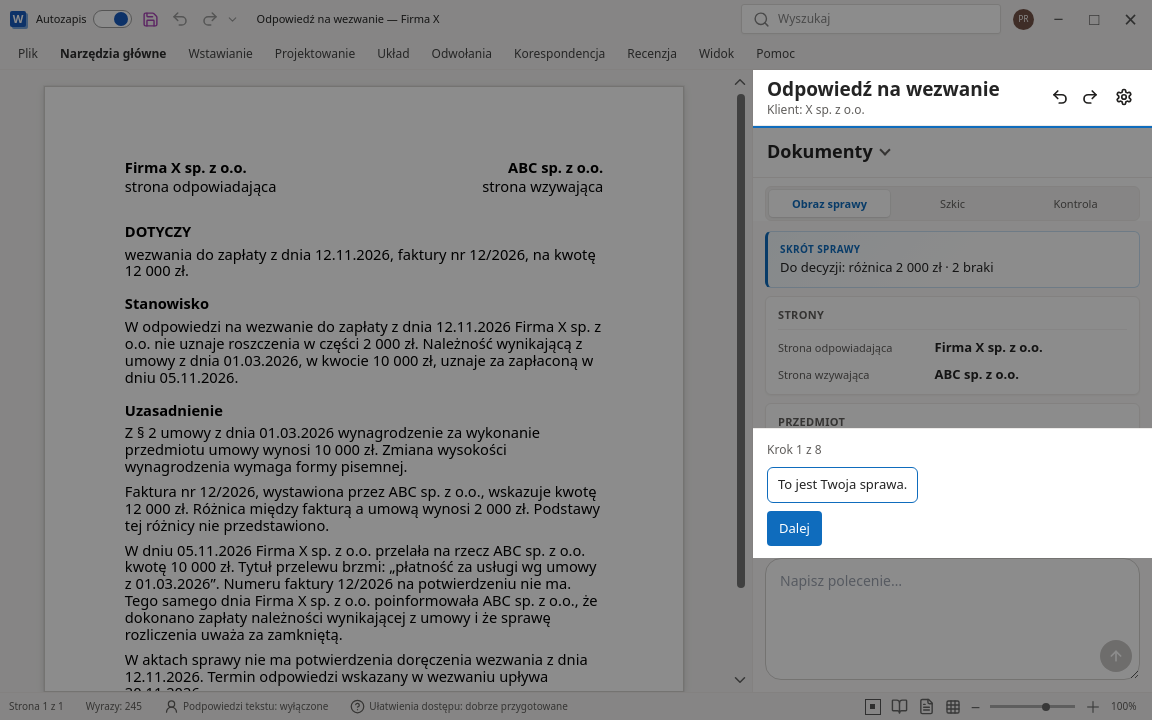
prezentacja › krok 4 podświetla brak potwierdzenia doręczenia
What coordinates should you click on to do the following:
click the button "Dalej"
I would click on:
 (794, 529)
Its box is [767, 511, 822, 546].
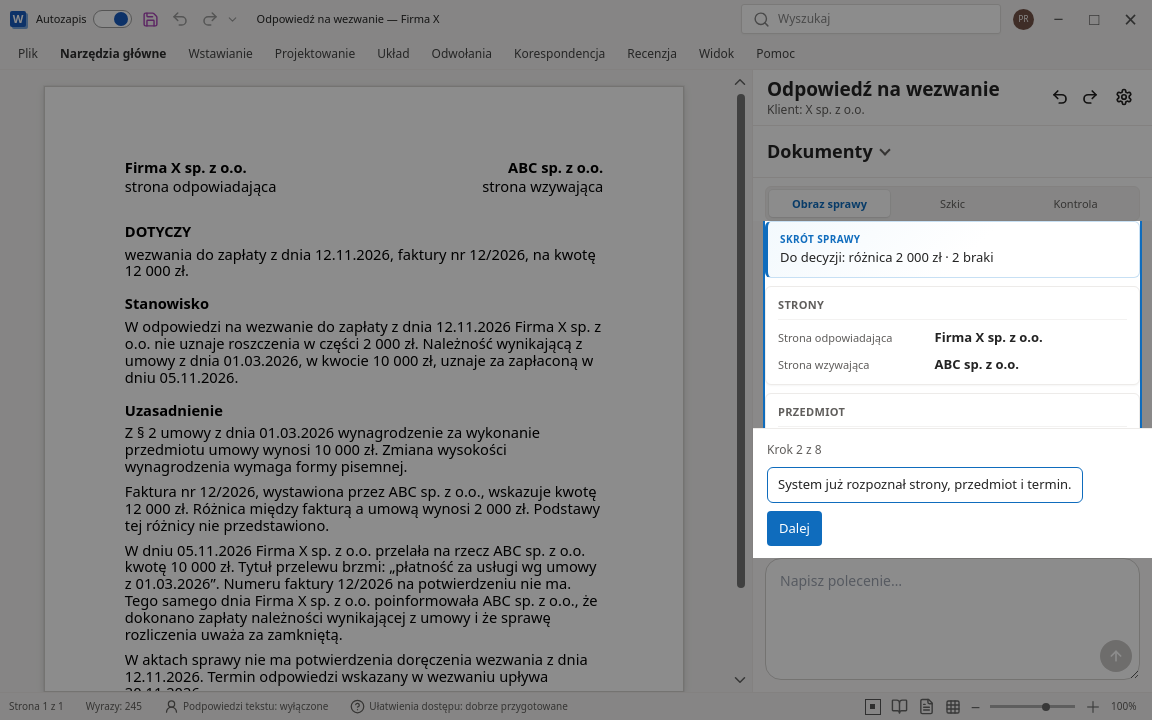
What coordinates should you click on to do the following:
click the button "Dalej"
I would click on:
 (794, 529)
Its box is [767, 511, 822, 546].
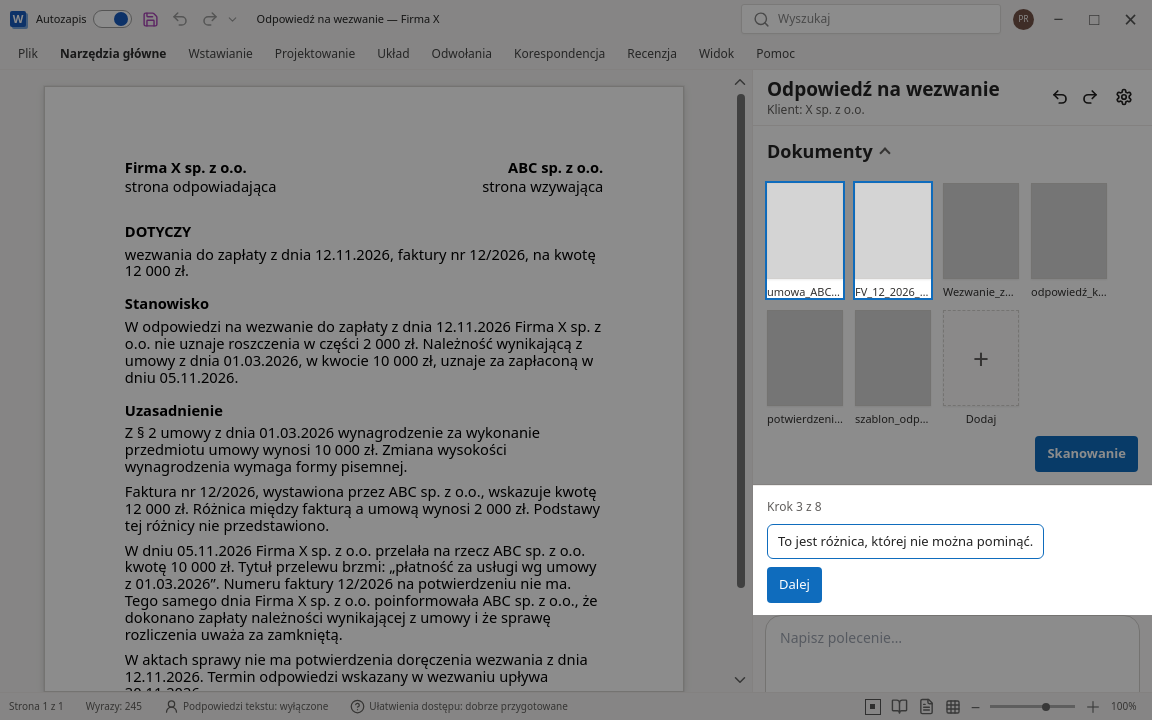
What coordinates should you click on to do the following:
click the button "Dalej"
I would click on:
 (794, 585)
Its box is [767, 567, 822, 603].
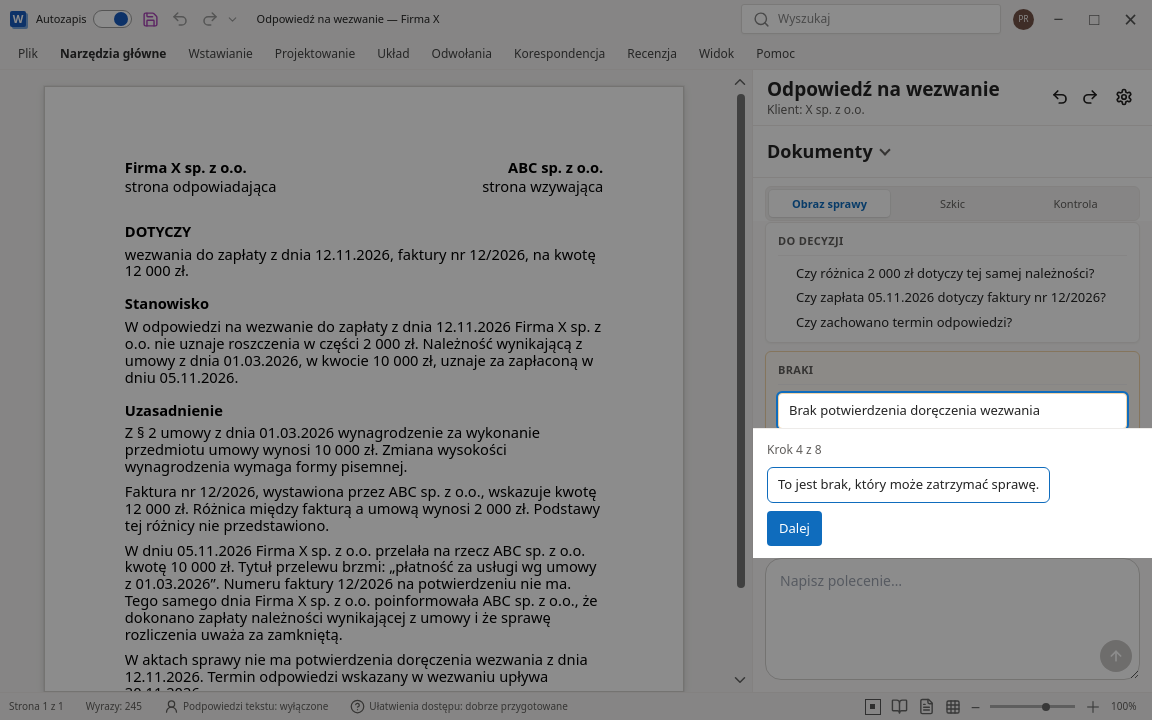
Expected: the text "To jest brak, który może zatrzymać sprawę." is shown, [767, 467, 1050, 503]
Expected: the button "Brak potwierdzenia doręczenia wezwania" is shown, [778, 393, 1127, 428]
